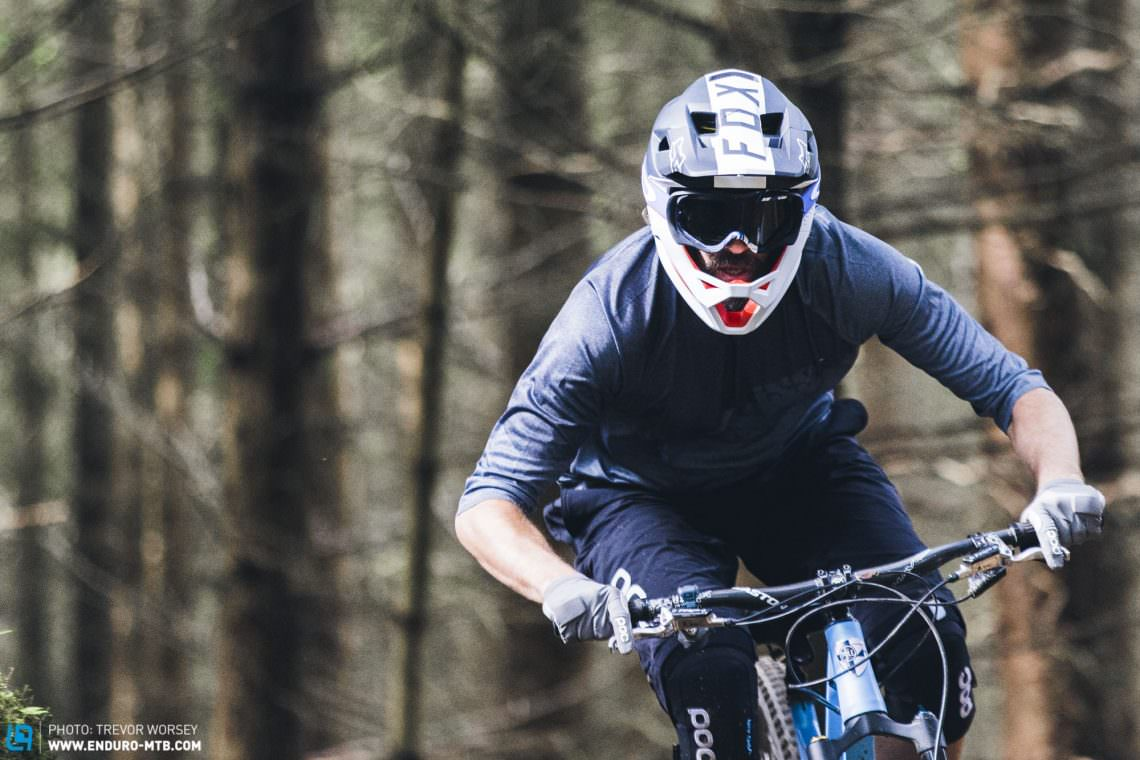helmet: (636, 67, 818, 333)
